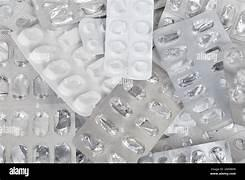pill_Strip: (73, 65, 179, 162), (11, 24, 120, 115), (0, 33, 75, 162), (154, 12, 230, 129), (138, 110, 243, 162), (202, 0, 244, 124), (204, 0, 244, 124), (0, 104, 75, 162), (104, 0, 154, 80), (141, 123, 243, 162), (151, 110, 243, 152), (160, 0, 244, 41), (147, 123, 244, 155), (155, 13, 228, 52), (151, 123, 244, 152), (165, 110, 236, 143), (33, 0, 105, 28), (191, 124, 244, 162), (161, 26, 221, 58), (224, 41, 244, 124), (152, 141, 231, 162), (73, 121, 112, 161), (164, 107, 205, 145), (189, 95, 231, 129), (159, 0, 207, 27), (214, 0, 244, 42), (164, 109, 203, 141), (33, 0, 74, 28), (151, 132, 208, 152), (0, 0, 37, 30), (164, 0, 222, 19), (216, 0, 244, 38), (159, 0, 194, 27), (79, 18, 104, 54), (224, 41, 244, 85), (202, 122, 243, 141), (165, 0, 207, 18), (147, 134, 181, 155), (203, 123, 244, 140), (70, 0, 106, 19), (161, 76, 182, 107), (0, 0, 25, 24), (230, 1, 244, 43), (227, 130, 244, 162), (189, 95, 215, 114), (0, 29, 12, 66), (160, 0, 182, 20), (158, 10, 181, 27), (231, 97, 244, 124), (68, 0, 105, 8), (70, 0, 105, 8), (153, 8, 163, 30), (76, 149, 92, 162), (76, 150, 92, 162), (75, 113, 85, 129), (203, 0, 219, 10), (138, 152, 152, 163), (153, 47, 161, 66), (122, 78, 133, 90), (154, 0, 166, 9), (238, 159, 244, 162), (157, 57, 159, 62)
